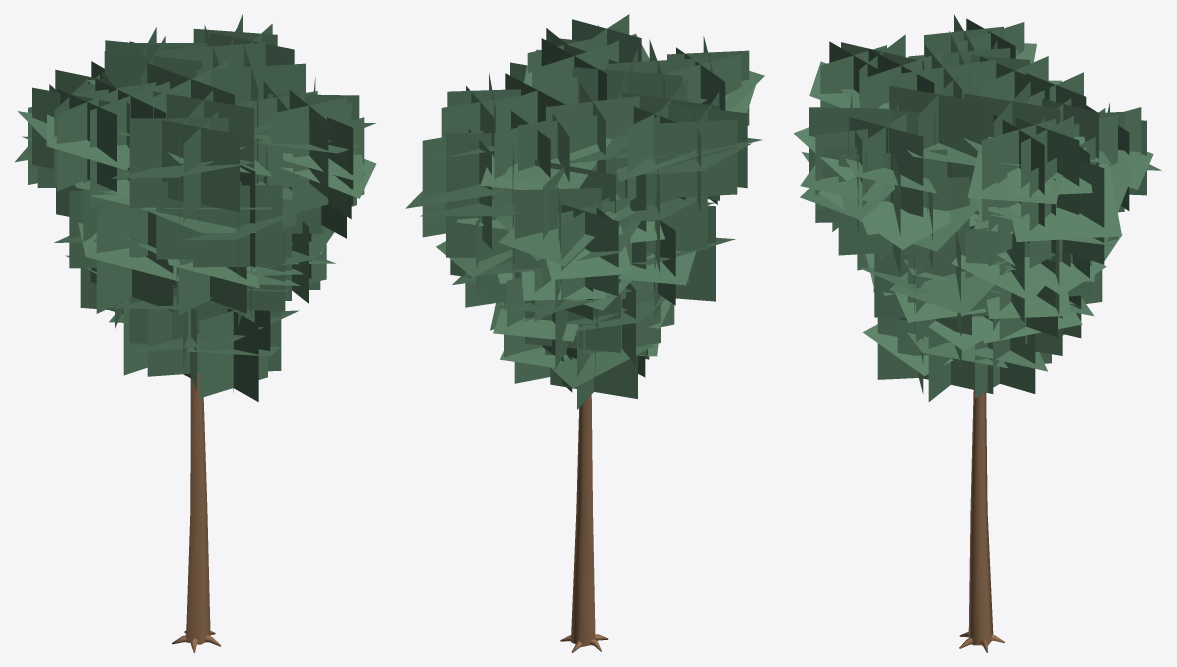
The model's file is pin_4_loin.glb.
3 views of the same model, side by side, from view 1: azimuth 30°, elevation 25°; view 2: azimuth 150°, elevation 25°; view 3: azimuth 270°, elevation 25° (orthographic). The views are drawn at different scales.
Parts seen in each view (by area): view 1: Pin_T4_Leger_Loin; view 2: Pin_T4_Leger_Loin; view 3: Pin_T4_Leger_Loin.
Part boxes in pixels (bbox=[...]): Pin_T4_Leger_Loin: bbox=[15, 14, 376, 652]; Pin_T4_Leger_Loin: bbox=[405, 14, 764, 652]; Pin_T4_Leger_Loin: bbox=[794, 14, 1161, 652].
Bounding box in the file's own units: 10.76 × 19.71 × 11.69.
